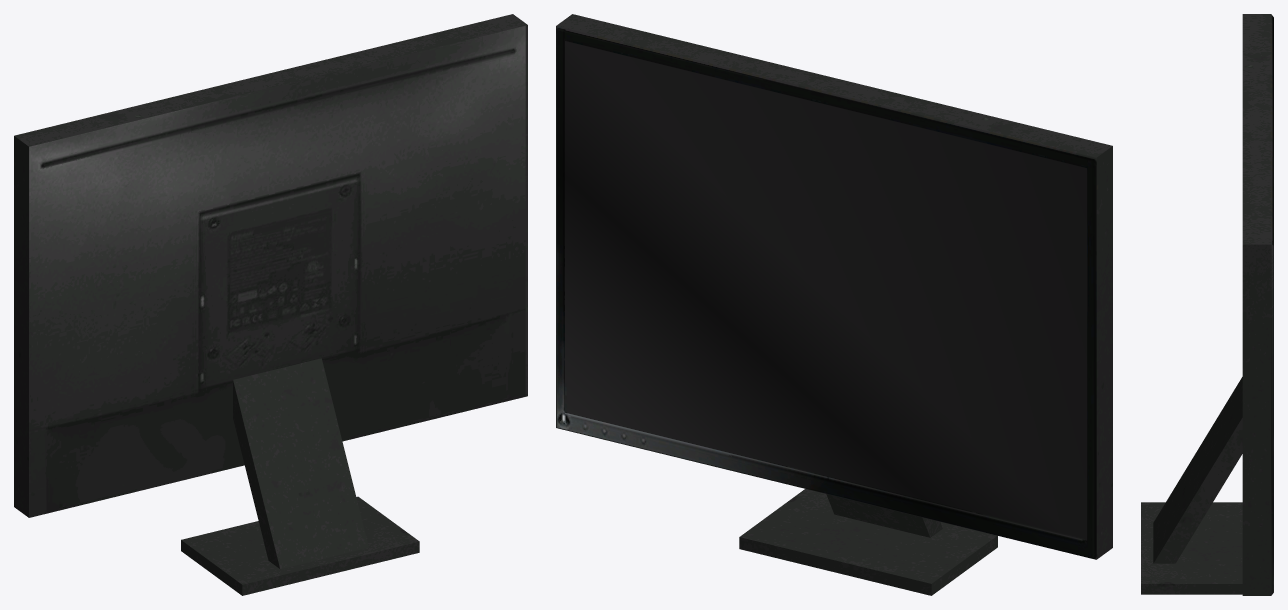
File: Prop_Dn02.glb
3 views of the same model, side by side, from view 1: azimuth 30°, elevation 25°; view 2: azimuth 150°, elevation 25°; view 3: azimuth 270°, elevation 25° (orthographic). The views are drawn at different scales.
Parts seen in each view (by area): view 1: xiutz_dn; view 2: xiutz_dn; view 3: xiutz_dn.
Part boxes in pixels (<box>): xiutz_dn: <box>14,14,527,595</box>; xiutz_dn: <box>556,14,1112,595</box>; xiutz_dn: <box>1141,14,1273,595</box>.
Size of the model in its own units: 1.41 by 1.21 by 0.3422.
1 material, 1 textured.
